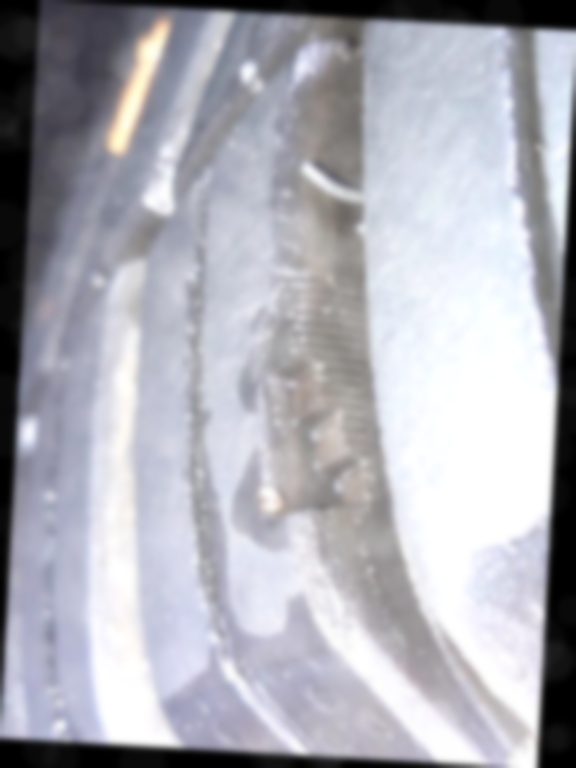temoin:80: (238, 270, 400, 530)
